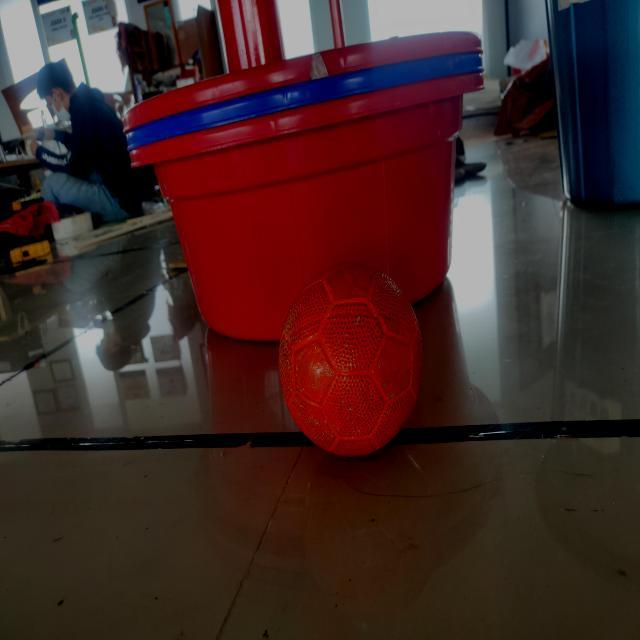bola: (274, 255, 425, 465)
